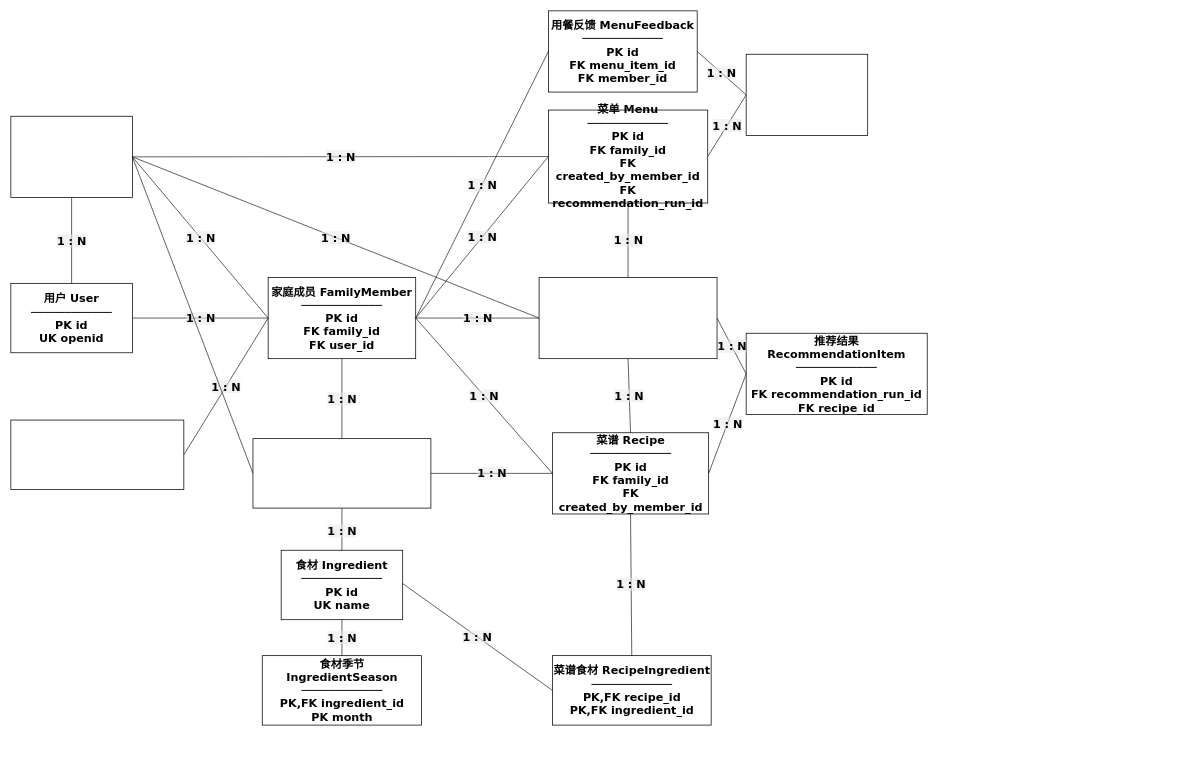
The diagram is 1203 pixels wide and 772 high, and some of its shapes have lost their labels. Here are the shapes that lost their labels. From the top down, the box of each, then its label:
(745, 54, 868, 136): 菜单项 MenuItem ──────────── PK id FK menu_id FK recipe_id
(10, 116, 132, 198): 家庭 Family ──────────── PK id FK owner_user_id UK invite_code
(538, 277, 717, 359): 推荐运行 RecommendationRun ──────────── PK id FK family_id FK created_by_member_id
(10, 419, 184, 490): 分类偏好 CategoryPreference ──────────── PK,FK member_id PK category
(252, 438, 431, 508): 食材限制 IngredientRestriction ──────────── PK,FK member_id PK,FK ingredient_id
